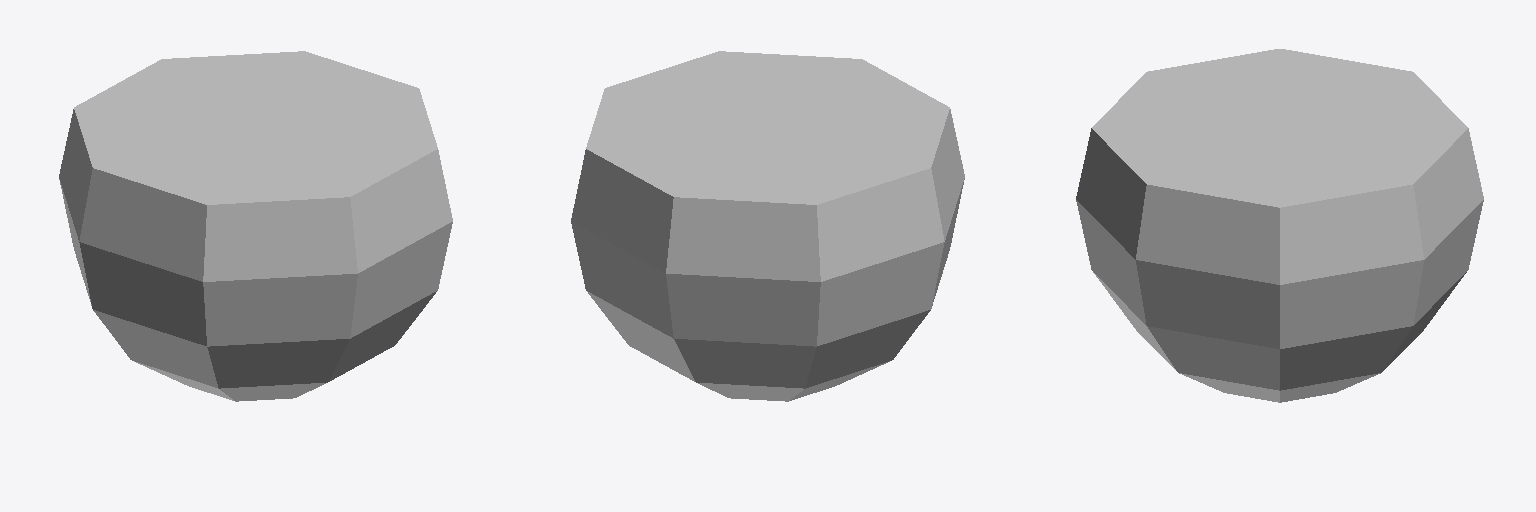
Rendered from lamp2.obj.
The picture shows the model from 3 angles: view 1: azimuth 30°, elevation 25°; view 2: azimuth 150°, elevation 25°; view 3: azimuth 270°, elevation 25°; orthographic projection.
Visible parts, largest first — view 1: Lamp2_Sphere; view 2: Lamp2_Sphere; view 3: Lamp2_Sphere.
Part boxes in pixels (x1,y1,x2,y2): Lamp2_Sphere: (59, 51, 452, 401); Lamp2_Sphere: (571, 51, 964, 401); Lamp2_Sphere: (1076, 49, 1483, 402).
Bounding box in the file's own units: 0.1807 × 0.125 × 0.1807.